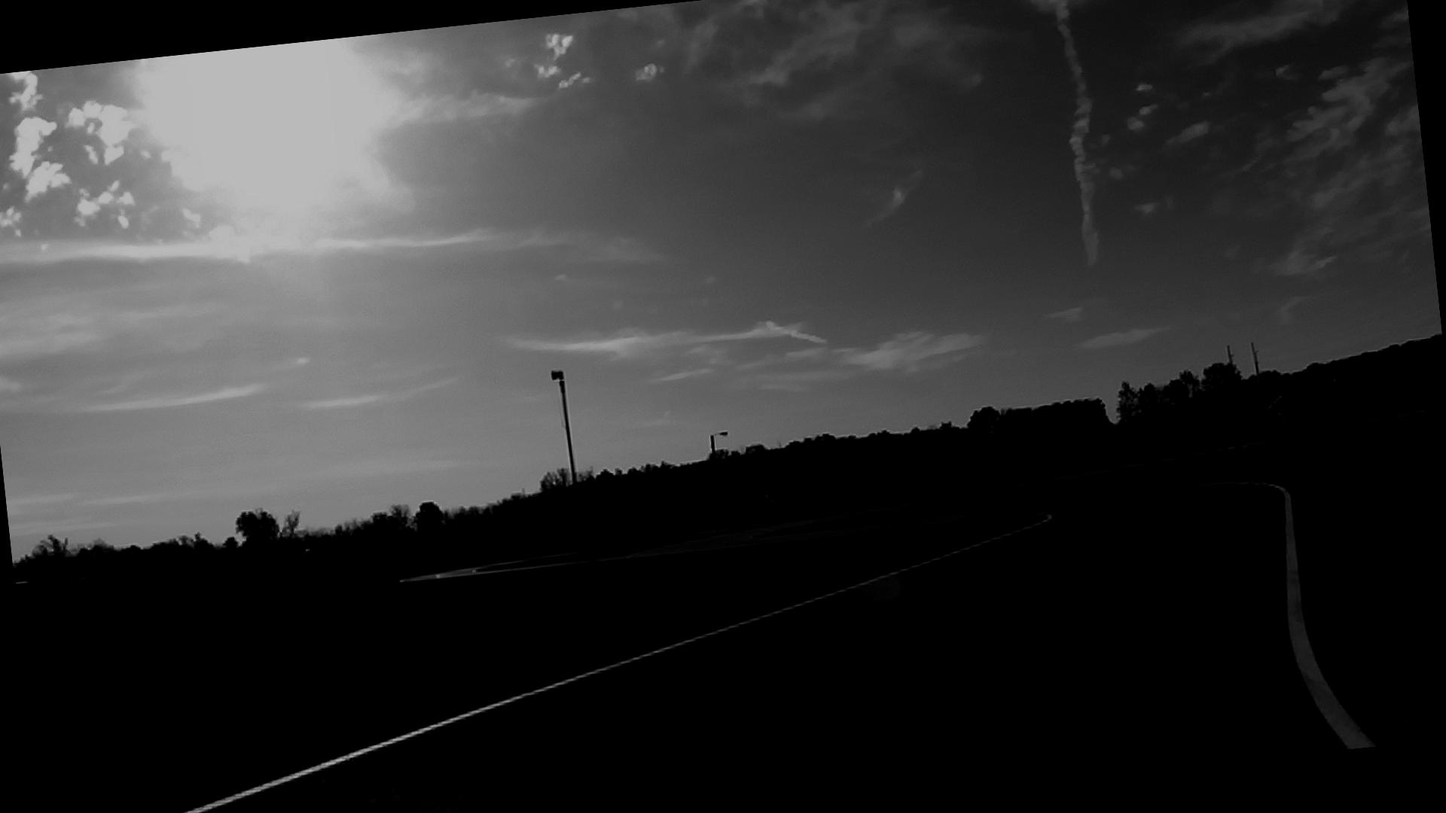white-line: (179, 572, 900, 813), (1268, 484, 1380, 750), (896, 513, 1052, 572)
